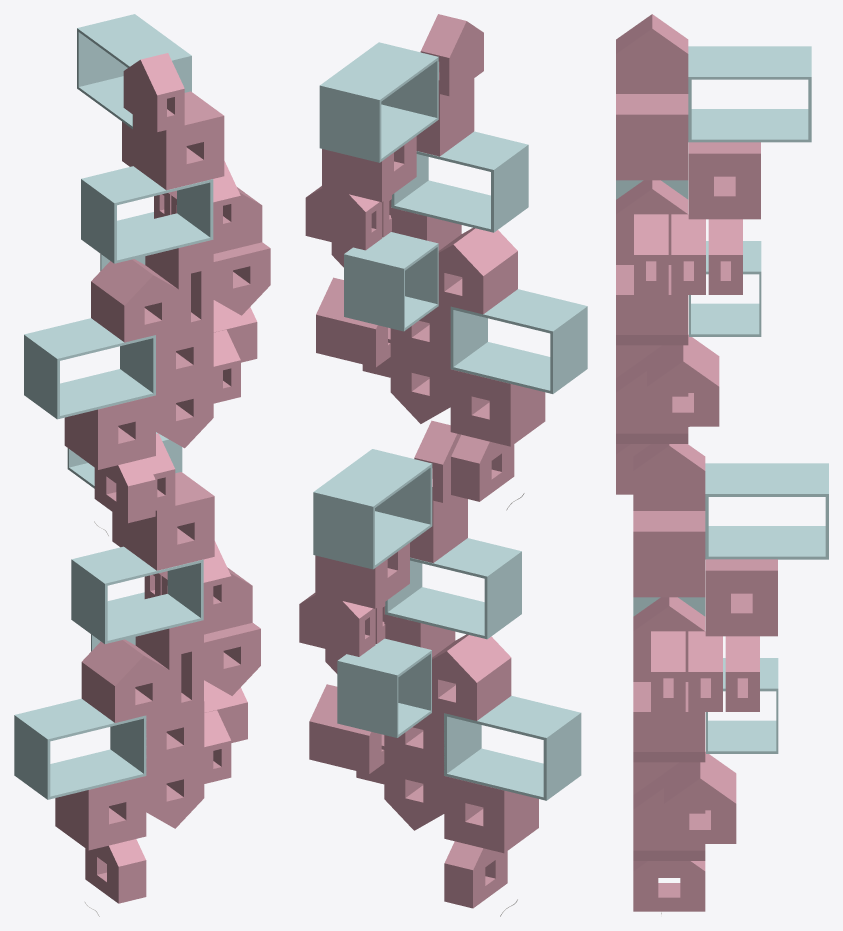
Rendered from city.gltf.
3 views of the same model, side by side, from view 1: azimuth 30°, elevation 25°; view 2: azimuth 150°, elevation 25°; view 3: azimuth 270°, elevation 25° (orthographic). The views are drawn at different scales.
Parts seen in each view (by area): view 1: Boolean (×8), hut (×10), Boolean 3, Boolean 5, Boolean 7, Boolean 6, Boolean 4, hut 3, Boolean 2, hut 8, hut 11, hut 2 (+4 smaller); view 2: Boolean (×10), hut (×7), Boolean 7, Boolean 3, Boolean 5, Boolean 8, Boolean 4, hut 7, Boolean 9, hut 9, hut 3, hut 11 (+3 smaller); view 3: hut (×10), Boolean (×7), Boolean 7, Boolean 6, hut 9, Boolean 9, hut 3, hut 8, Boolean 8, hut 4, hut 5, hut 6 (+5 smaller).
Part boxes in pixels (x1,y1,x2,y2): Boolean (×8): (14, 321, 214, 850); hut (×10): (81, 259, 260, 903); Boolean 3: (24, 318, 155, 419); Boolean 5: (81, 166, 213, 263); Boolean 7: (77, 14, 191, 129); Boolean 6: (133, 91, 224, 190); Boolean 4: (64, 395, 155, 469); hut 3: (123, 53, 184, 132); Boolean 2: (145, 239, 213, 328); hut 8: (212, 242, 270, 315); hut 11: (94, 458, 155, 523); hut 2: (156, 381, 213, 448); Boolean (×10): (313, 304, 581, 853); hut (×7): (299, 227, 517, 908); Boolean 7: (319, 42, 438, 162); Boolean 3: (450, 289, 587, 393); Boolean 5: (391, 131, 528, 232); Boolean 8: (344, 232, 438, 331); Boolean 4: (450, 369, 545, 446); hut 7: (305, 186, 382, 250); Boolean 9: (322, 136, 416, 202); hut 9: (316, 277, 390, 367); hut 3: (420, 14, 483, 96); hut 11: (451, 434, 514, 501); hut (×10): (633, 444, 759, 911); Boolean (×7): (616, 345, 828, 794); Boolean 7: (688, 46, 811, 142); Boolean 6: (616, 94, 688, 180); hut 9: (647, 334, 719, 426); Boolean 9: (688, 142, 760, 219); hut 3: (616, 14, 688, 93); hut 8: (616, 265, 688, 345); Boolean 8: (689, 241, 761, 336); hut 4: (616, 180, 688, 254); hut 5: (634, 214, 668, 294); hut 6: (671, 214, 705, 294).
Size of the model in its own units: 7.47 by 28.15 by 5.89.
